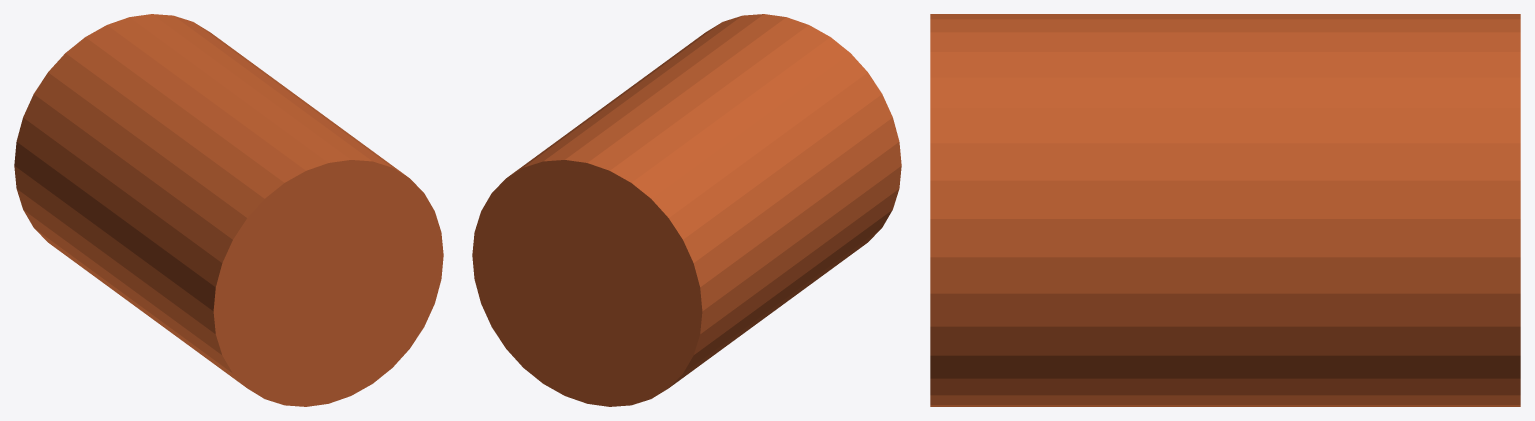
Rendered from test_reload.glb.
3 renders of one model, left to right at view 1: azimuth 30°, elevation 25°; view 2: azimuth 150°, elevation 25°; view 3: azimuth 270°, elevation 25°, orthographic. The views are drawn at different scales.
Visible parts, largest first — view 1: geometry_0; view 2: geometry_0; view 3: geometry_0.
Boxes of the visible parts, x1,y1,x2,y2 form: geometry_0: [14, 14, 443, 406]; geometry_0: [472, 14, 901, 406]; geometry_0: [930, 14, 1520, 406].
Size of the model in its own units: 2 by 2 by 3.
1 material, 1 textured.
